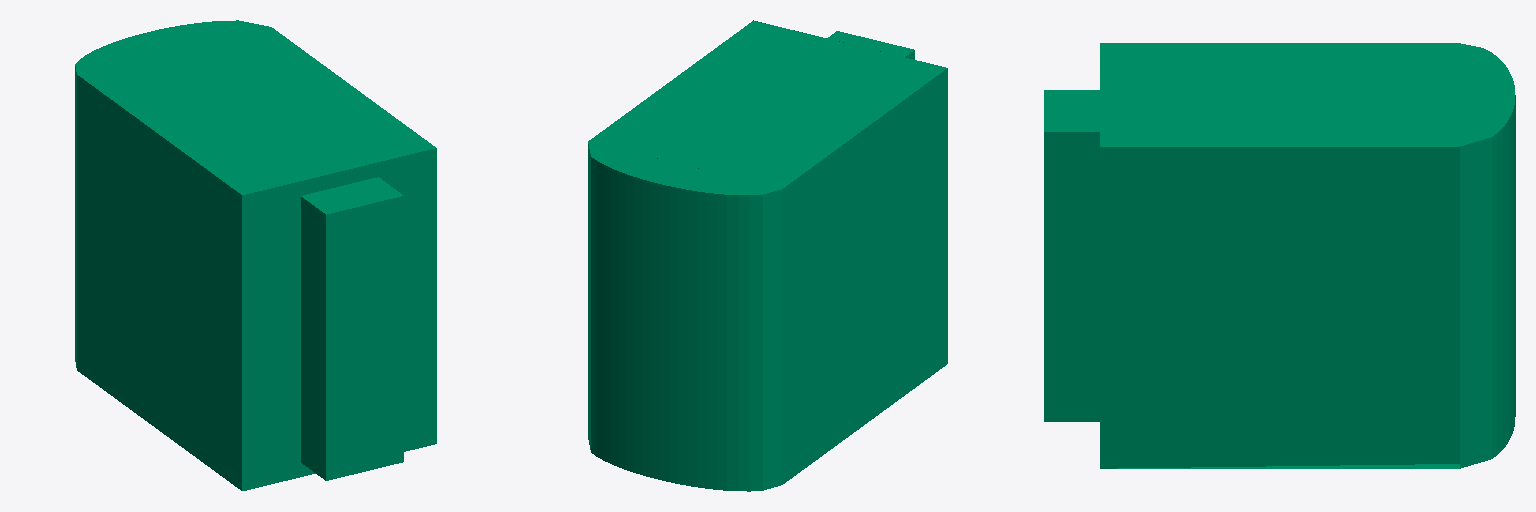
URDF robot description (3v3_47.5.25.0.27.5_30.0.30.0.40.0_0.925.1_64):
<?xml version="1.0" ?>
<robot name="3v3_47.5.25.0.27.5_30.0.30.0.40.0_0.925.1_64">

    <link name="palm">
        <visual>
            <origin rpy="0 0 0" xyz="0 0 0"/>
            <geometry>
                <mesh filename="obj_files/palm.obj" scale="1 1 1"/>
            </geometry>
        </visual>
        <collision>
            <geometry>
                <mesh filename="obj_files/palm_collision.obj" scale="1 1 1"/>
            </geometry>
        </collision>
    </link>

    <link name="finger0_segment0">
        <visual>
            <origin rpy="0 0 0" xyz="0 0 0"/>
            <geometry>
                <mesh filename="obj_files/finger0_segment0.obj" scale="1 1 1"/>
            </geometry>
        </visual>
        <collision>
            <geometry>
                <mesh filename="obj_files/finger0_segment0_collision.obj" scale="1 1 1"/>
            </geometry>
        </collision>
    </link>

    <joint name="finger0_segment0_joint" type="revolute">
        <parent link="palm"/>
        <child link="finger0_segment0"/>
        <origin rpy="0 0 0" xyz="0.032 0 0.0"/>
        <axis xyz="0 0 1"/>
        <limit effort="1000.0" lower="-3.14" upper="3.14" velocity="0.5"/>
    </joint>

    <link name="finger0_segment1">
        <visual>
            <origin rpy="0 0 0" xyz="0 0 0"/>
            <geometry>
                <mesh filename="obj_files/finger0_segment1.obj" scale="1 1 1"/>
            </geometry>
        </visual>
        <collision>
            <geometry>
                <mesh filename="obj_files/finger0_segment1_collision.obj" scale="1 1 1"/>
            </geometry>
        </collision>
    </link>

    <joint name="finger0_segment1_joint" type="revolute">
        <parent link="finger0_segment0"/>
        <child link="finger0_segment1"/>
        <origin rpy="0 0 0" xyz="0 0.07106493506493505 0"/>
        <axis xyz="0 0 1"/>
        <limit effort="1000.0" lower="-3.14" upper="3.14" velocity="0.5"/>
    </joint>

    <link name="finger0_segment2">
        <visual>
            <origin rpy="0 0 0" xyz="0 0 0"/>
            <geometry>
                <mesh filename="obj_files/finger0_segment2.obj" scale="1 1 1"/>
            </geometry>
        </visual>
        <collision>
            <geometry>
                <mesh filename="obj_files/finger0_segment2_collision.obj" scale="1 1 1"/>
            </geometry>
        </collision>
    </link>

    <joint name="finger0_segment2_joint" type="revolute">
        <parent link="finger0_segment1"/>
        <child link="finger0_segment2"/>
        <origin rpy="0 0 0" xyz="0 0.037402597402597396 0"/>
        <axis xyz="0 0 1"/>
        <limit effort="1000.0" lower="-3.14" upper="3.14" velocity="0.5"/>
    </joint>

    <link name="finger1_segment0">
        <visual>
            <origin rpy="0 0 0" xyz="0 0 0"/>
            <geometry>
                <mesh filename="obj_files/finger1_segment0.obj" scale="1 1 1"/>
            </geometry>
        </visual>
        <collision>
            <geometry>
                <mesh filename="obj_files/finger1_segment0_collision.obj" scale="1 1 1"/>
            </geometry>
        </collision>
    </link>

    <joint name="finger1_segment0_joint" type="revolute">
        <parent link="palm"/>
        <child link="finger1_segment0"/>
        <origin rpy="0 0 0" xyz="-0.032 0 3.91886975727153e-18"/>
        <axis xyz="0 0 1"/>
        <limit effort="1000.0" lower="-3.14" upper="3.14" velocity="0.5"/>
    </joint>

    <link name="finger1_segment1">
        <visual>
            <origin rpy="0 0 0" xyz="0 0 0"/>
            <geometry>
                <mesh filename="obj_files/finger1_segment1.obj" scale="1 1 1"/>
            </geometry>
        </visual>
        <collision>
            <geometry>
                <mesh filename="obj_files/finger1_segment1_collision.obj" scale="1 1 1"/>
            </geometry>
        </collision>
    </link>

    <joint name="finger1_segment1_joint" type="revolute">
        <parent link="finger1_segment0"/>
        <child link="finger1_segment1"/>
        <origin rpy="0 0 0" xyz="0 0.04151688311688311 0"/>
        <axis xyz="0 0 1"/>
        <limit effort="1000.0" lower="-3.14" upper="3.14" velocity="0.5"/>
    </joint>

    <link name="finger1_segment2">
        <visual>
            <origin rpy="0 0 0" xyz="0 0 0"/>
            <geometry>
                <mesh filename="obj_files/finger1_segment2.obj" scale="1 1 1"/>
            </geometry>
        </visual>
        <collision>
            <geometry>
                <mesh filename="obj_files/finger1_segment2_collision.obj" scale="1 1 1"/>
            </geometry>
        </collision>
    </link>

    <joint name="finger1_segment2_joint" type="revolute">
        <parent link="finger1_segment1"/>
        <child link="finger1_segment2"/>
        <origin rpy="0 0 0" xyz="0 0.04151688311688311 0"/>
        <axis xyz="0 0 1"/>
        <limit effort="1000.0" lower="-3.14" upper="3.14" velocity="0.5"/>
    </joint>

</robot>

--- Facts derived from the render (not from the file) ---
3 views of the same robot in one strip: view 1: azimuth 30°, elevation 25°; view 2: azimuth 150°, elevation 25°; view 3: azimuth 270°, elevation 25° (orthographic).
Model 3v3_47.5.25.0.27.5_30.0.30.0.40.0_0.925.1_64 with 7 links and 6 joints (6 revolute), rooted at palm, posed all joints at 0.
Visible links, largest first — view 1: finger0_segment1; view 2: finger0_segment1; view 3: finger0_segment1.
Link boxes in pixels (box(x1,y1,x2,y2)): finger0_segment1: box(75, 20, 436, 490); finger0_segment1: box(588, 20, 947, 491); finger0_segment1: box(1044, 43, 1515, 468).
Bounding box of the posed robot: 0.022 × 0.0424 × 0.032 m (x, y, z).
Meshes: 7 distinct files referenced, 1 mesh visuals loaded (1 OBJ); not drawn: 6 (reference not matched to a file when rendering).